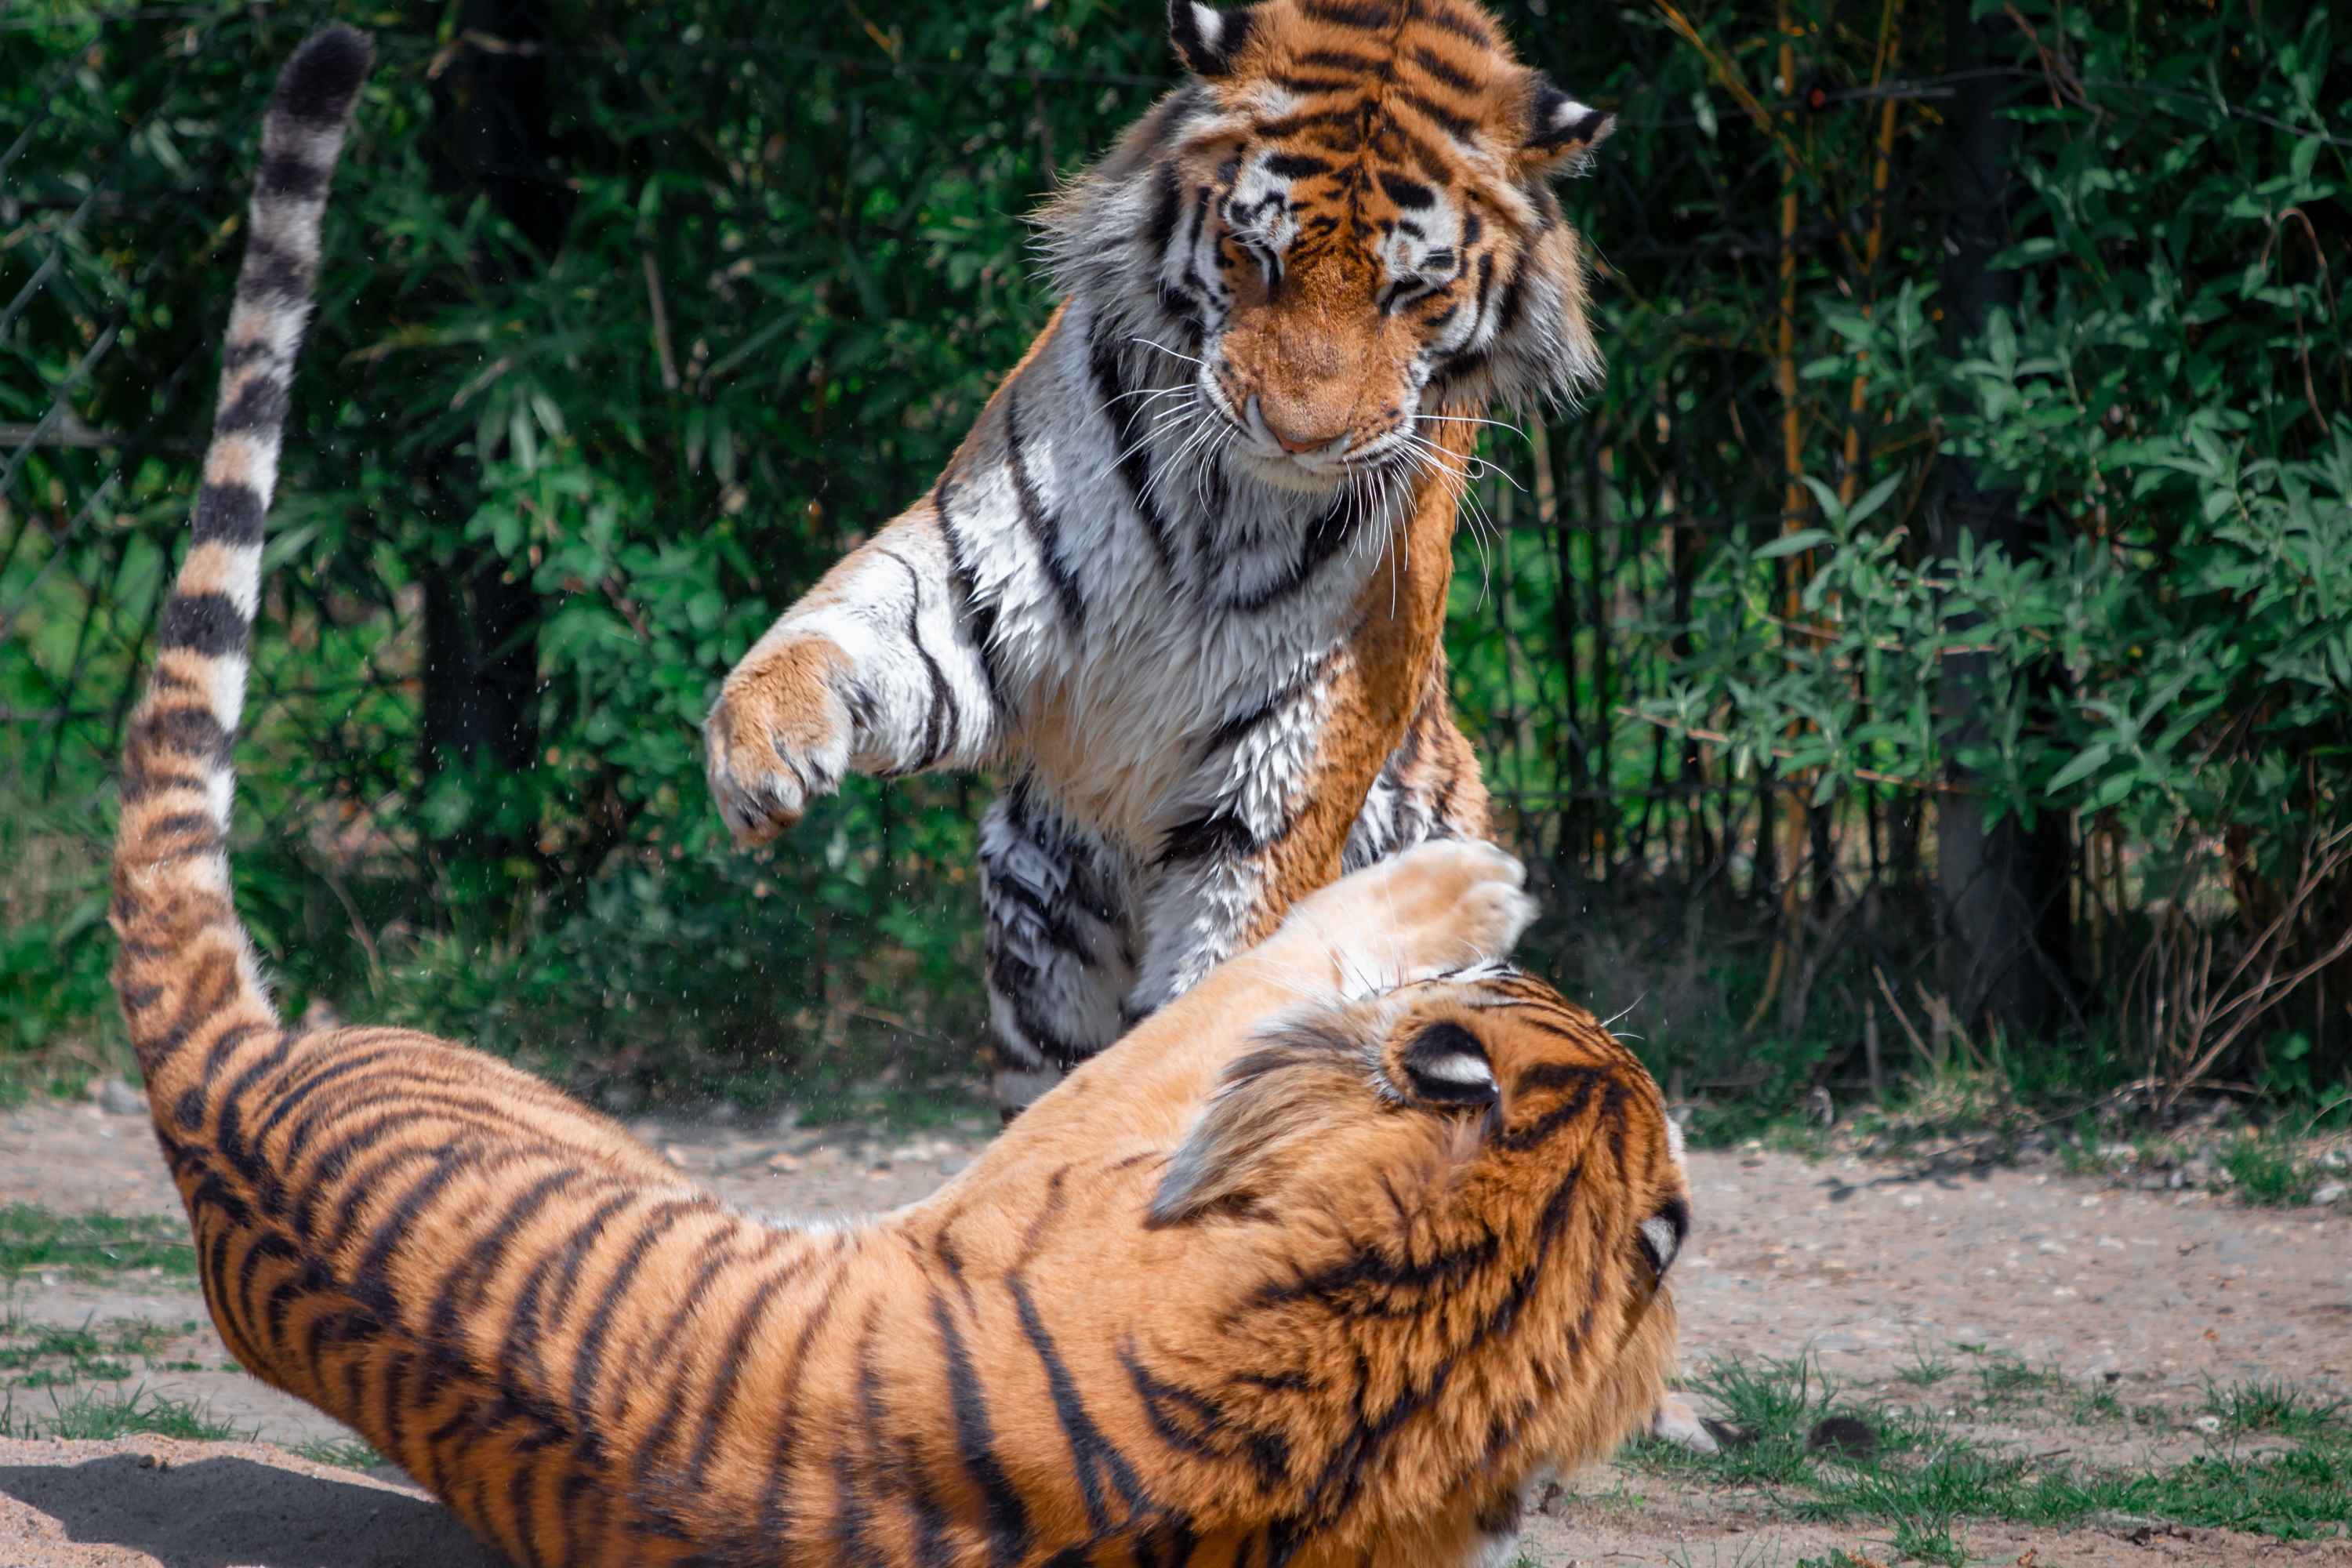tiger: (98, 831, 1689, 1551), (894, 45, 1641, 1008)
